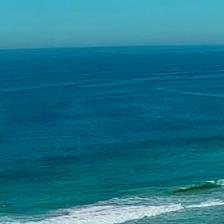surfer: (189, 178, 192, 182), (4, 203, 7, 207)
